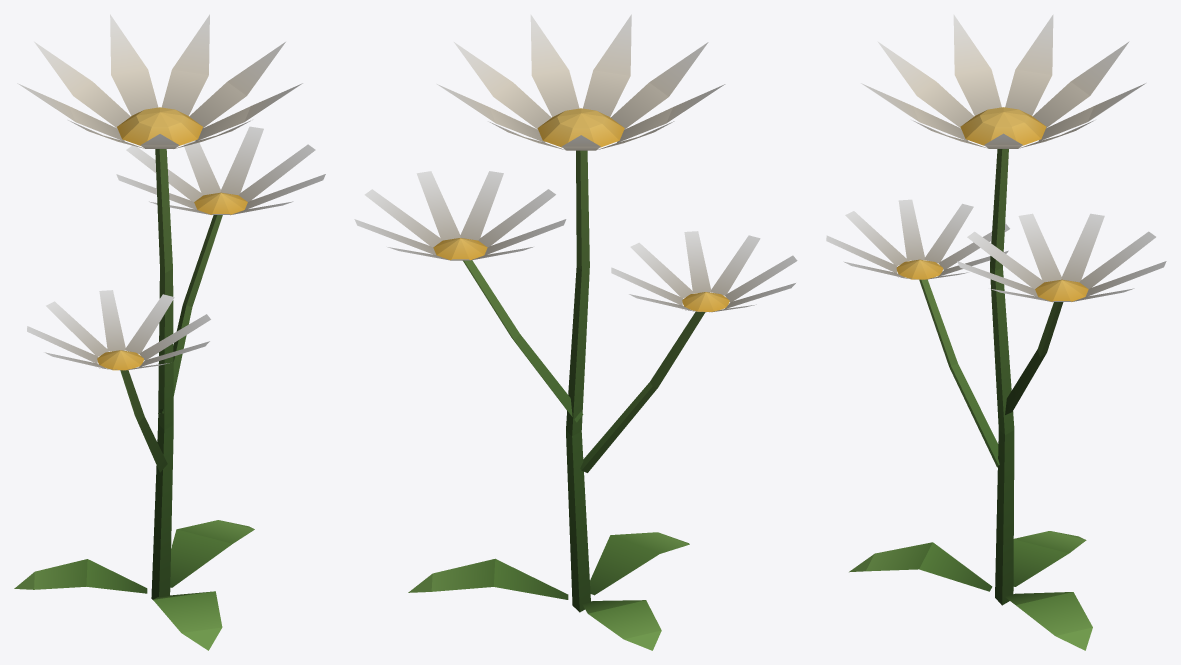
The model's file is flower-daisy.BACKUP.glb.
3 renders of one model, left to right at view 1: azimuth 30°, elevation 25°; view 2: azimuth 150°, elevation 25°; view 3: azimuth 270°, elevation 25°, orthographic.
Visible parts, largest first — view 1: daisy; view 2: daisy; view 3: daisy.
Boxes of the visible parts, bbox=[...] form: daisy: bbox=[14, 14, 325, 650]; daisy: bbox=[354, 14, 797, 650]; daisy: bbox=[826, 14, 1166, 650].
Size of the model in its own units: 3.12 by 4.6 by 2.68.
